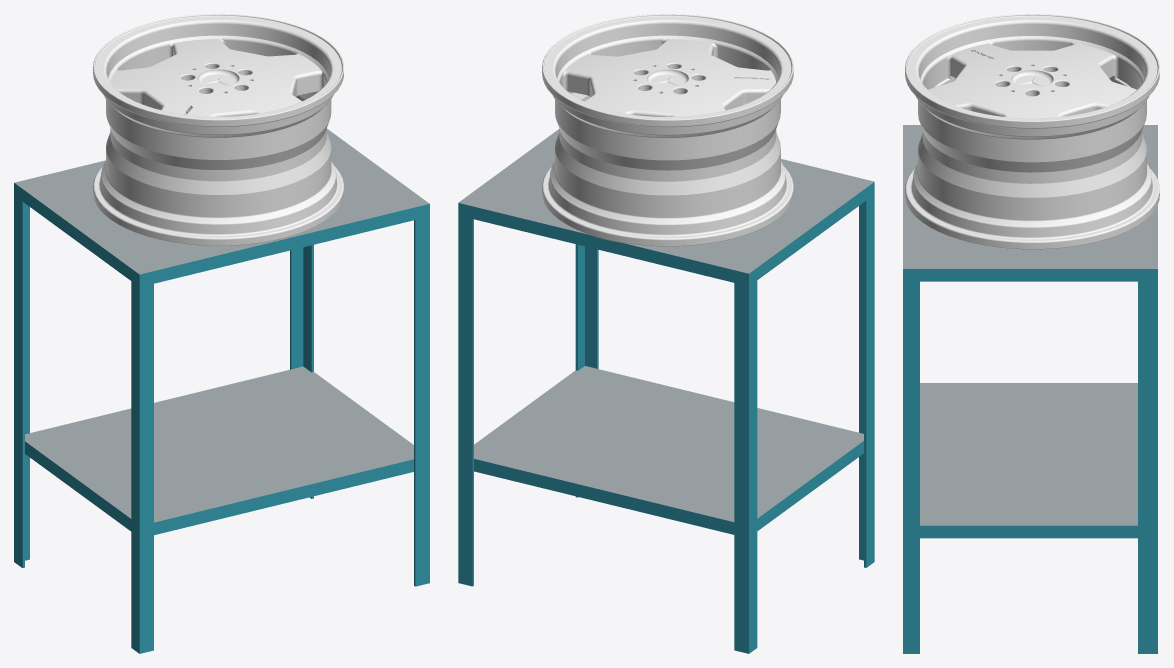
Rendered from adjustable_height_table_w_wheel.dae.
3 renders of one model, left to right at view 1: azimuth 30°, elevation 25°; view 2: azimuth 150°, elevation 25°; view 3: azimuth 270°, elevation 25°, orthographic.
Visible parts, largest first — view 1: Adjustable_Height_Work_Table_1_Untitled, mercedes_wheel_new_1_Untitled_001; view 2: Adjustable_Height_Work_Table_1_Untitled, mercedes_wheel_new_1_Untitled_001; view 3: Adjustable_Height_Work_Table_1_Untitled, mercedes_wheel_new_1_Untitled_001.
Part boxes in pixels (x1,y1,x2,y2): Adjustable_Height_Work_Table_1_Untitled: (14, 129, 429, 653); mercedes_wheel_new_1_Untitled_001: (93, 14, 343, 245); Adjustable_Height_Work_Table_1_Untitled: (458, 129, 874, 653); mercedes_wheel_new_1_Untitled_001: (542, 14, 793, 246); Adjustable_Height_Work_Table_1_Untitled: (903, 125, 1157, 653); mercedes_wheel_new_1_Untitled_001: (905, 14, 1159, 249).
Bounding box in the file's own units: 0.5724 × 0.4321 × 0.9533.
